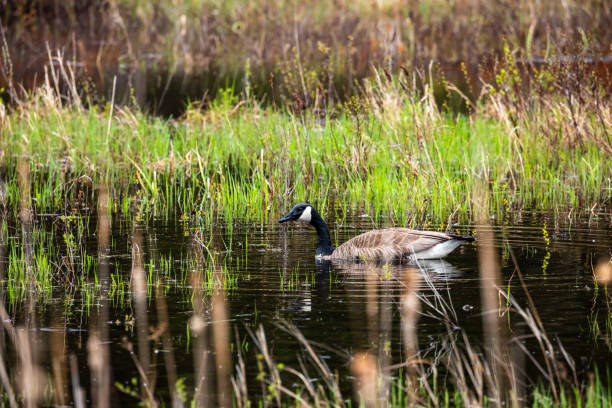goose: (276, 202, 477, 269)
